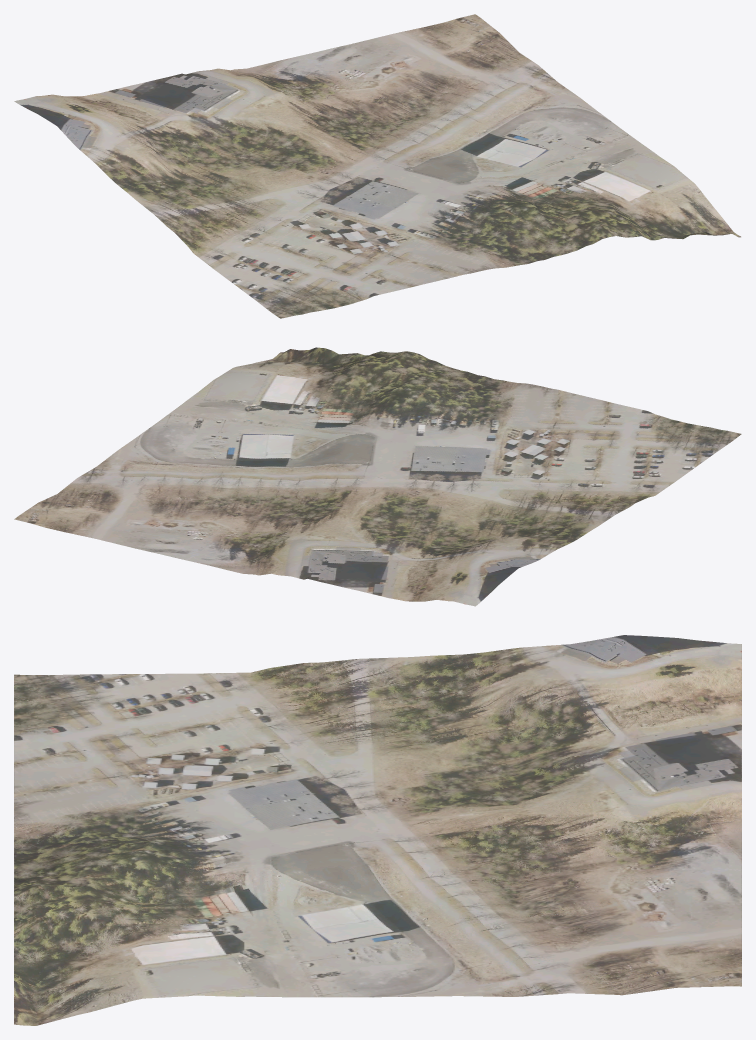
File: CM_Terrain_24492711_6815698.fbx
3 views of the same model, one above another, from view 1: azimuth 30°, elevation 25°; view 2: azimuth 150°, elevation 25°; view 3: azimuth 270°, elevation 25° (orthographic). The views are drawn at different scales.
Visible parts, largest first — view 1: CM_Terrain_24492711_6815698_LOD0; view 2: CM_Terrain_24492711_6815698_LOD0; view 3: CM_Terrain_24492711_6815698_LOD0.
Part boxes in pixels (<box>): CM_Terrain_24492711_6815698_LOD0: <box>14,14,740,318</box>; CM_Terrain_24492711_6815698_LOD0: <box>14,347,741,606</box>; CM_Terrain_24492711_6815698_LOD0: <box>14,635,741,1025</box>.
Size of what is drawn, in the model's own units: 205 by 25.85 by 205.
